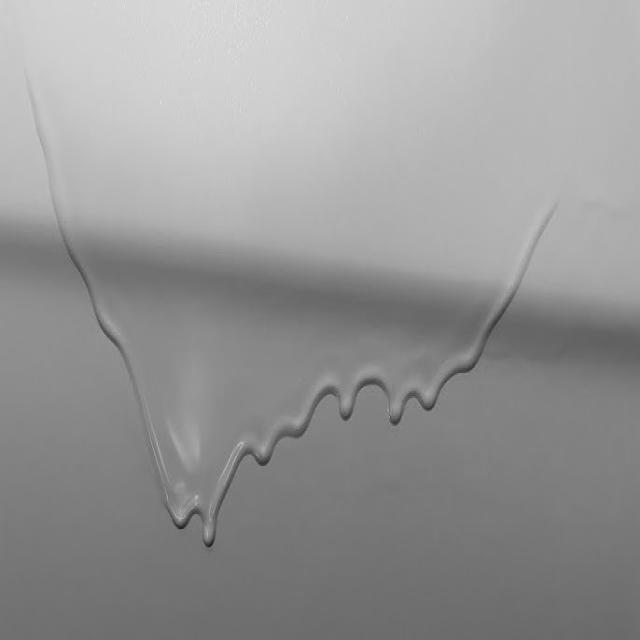paint drips: (24, 58, 218, 573), (192, 296, 464, 566), (430, 176, 573, 437)
